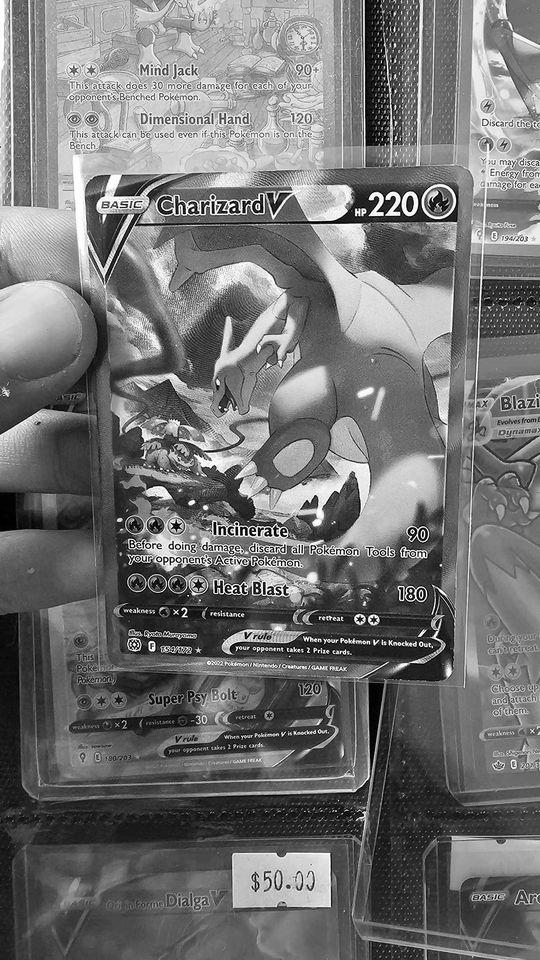card: (85, 164, 475, 682), (47, 0, 337, 215), (455, 374, 540, 793), (41, 861, 342, 960)
